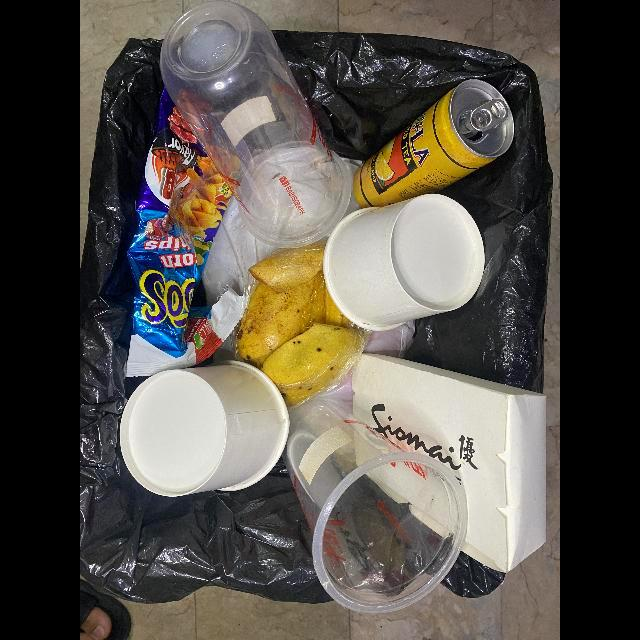aluminum: (352, 80, 515, 209)
cardboard: (349, 353, 547, 574), (118, 360, 290, 498), (119, 361, 290, 498), (322, 194, 486, 334)
food_wrapper: (126, 89, 244, 378)
plastic_container: (160, 0, 352, 249), (284, 399, 468, 616)
